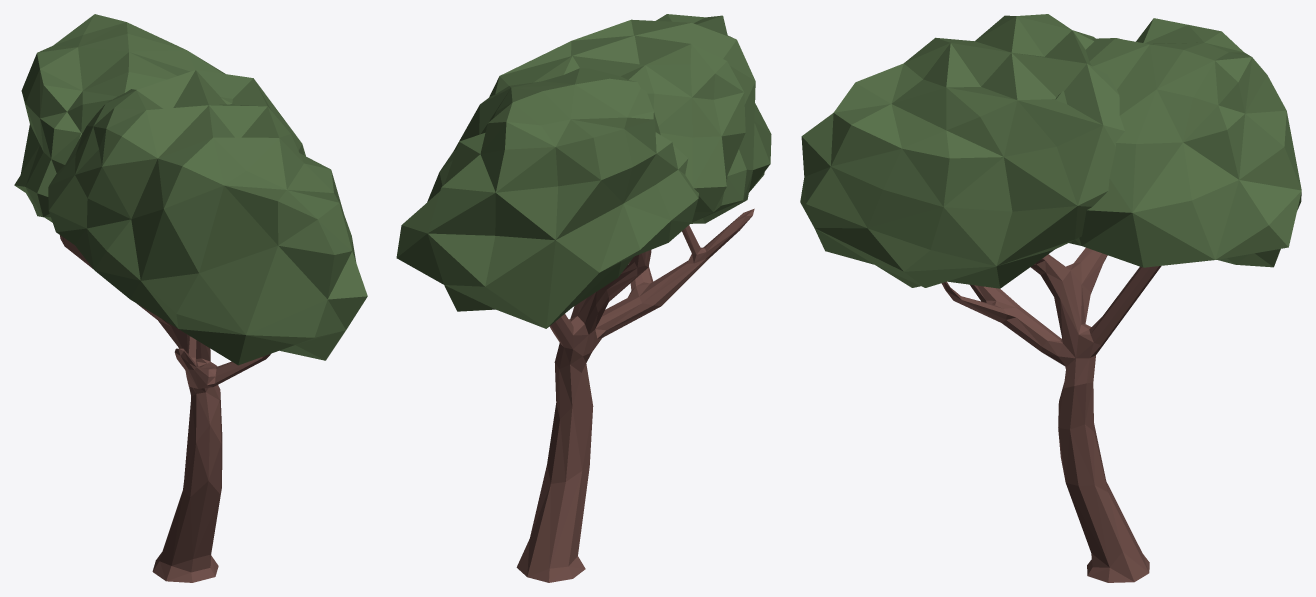
Rendered from CommonTree_5.lod1.glb.
3 renders of one model, left to right at view 1: azimuth 30°, elevation 25°; view 2: azimuth 150°, elevation 25°; view 3: azimuth 270°, elevation 25°, orthographic.
Parts seen in each view (by area): view 1: CommonTree_5; view 2: CommonTree_5; view 3: CommonTree_5.
Boxes of the visible parts, x1,y1,x2,y2 form: CommonTree_5: (14, 14, 367, 582); CommonTree_5: (396, 14, 771, 582); CommonTree_5: (800, 14, 1301, 582).
Size of the model in its own units: 1.29 by 2.53 by 2.25.
